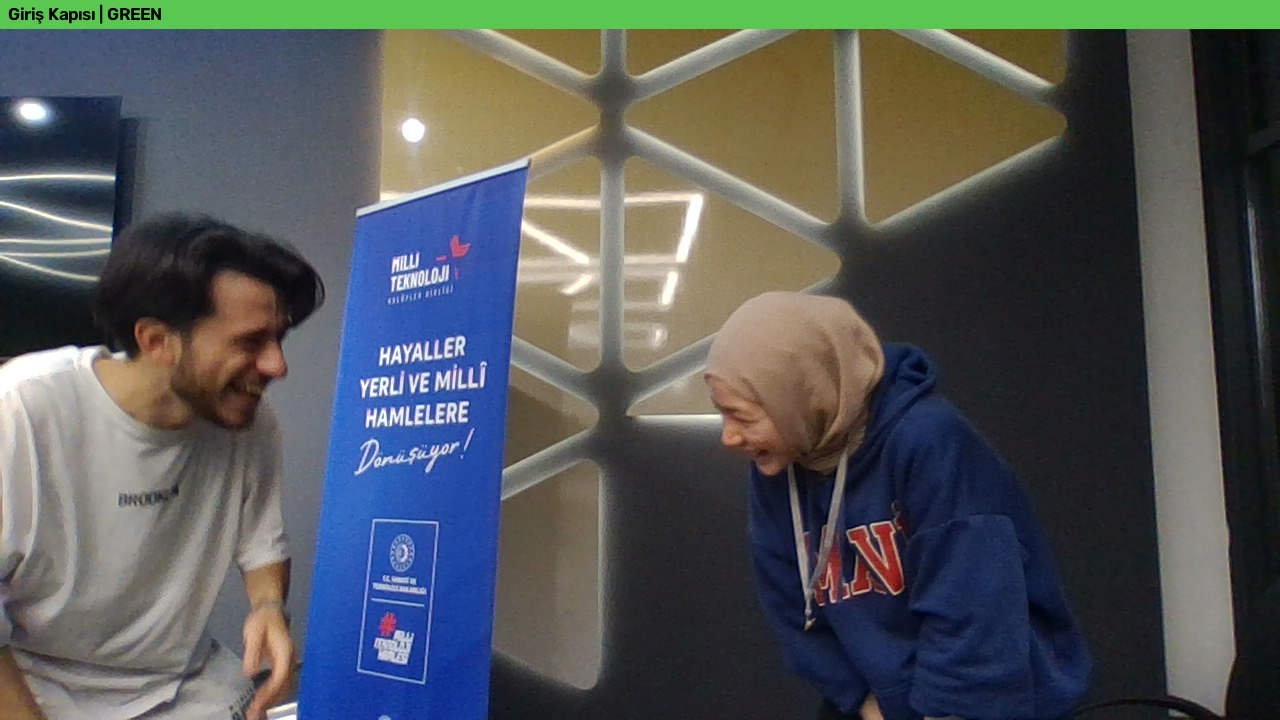weapon: (783, 424, 891, 542)
